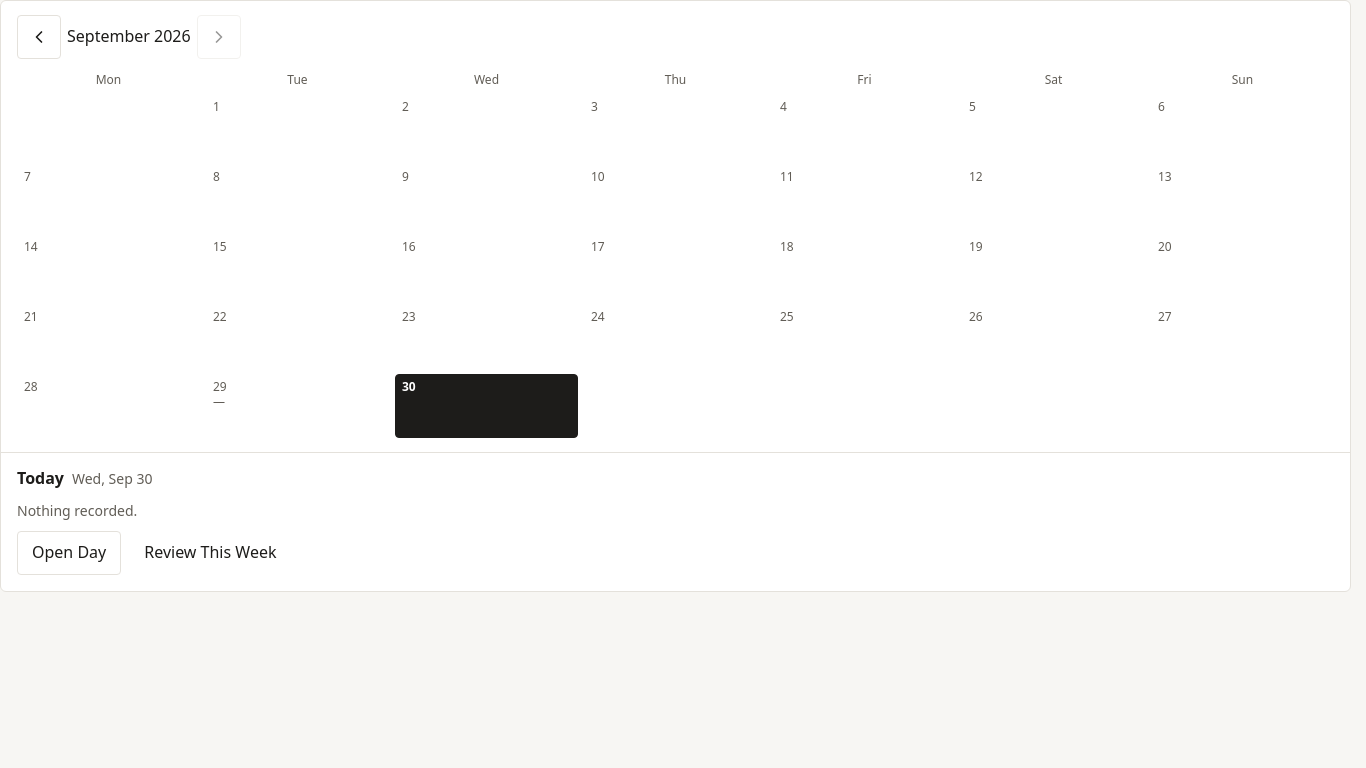
Test: Calendar › shows Check punches for a day with punches out of order, in place of its hours
Check: the text with class "calendar-worked" reads "—", box [213,393,225,410]
Click the button "29 —" at (298, 406), box [206,374,389,438]
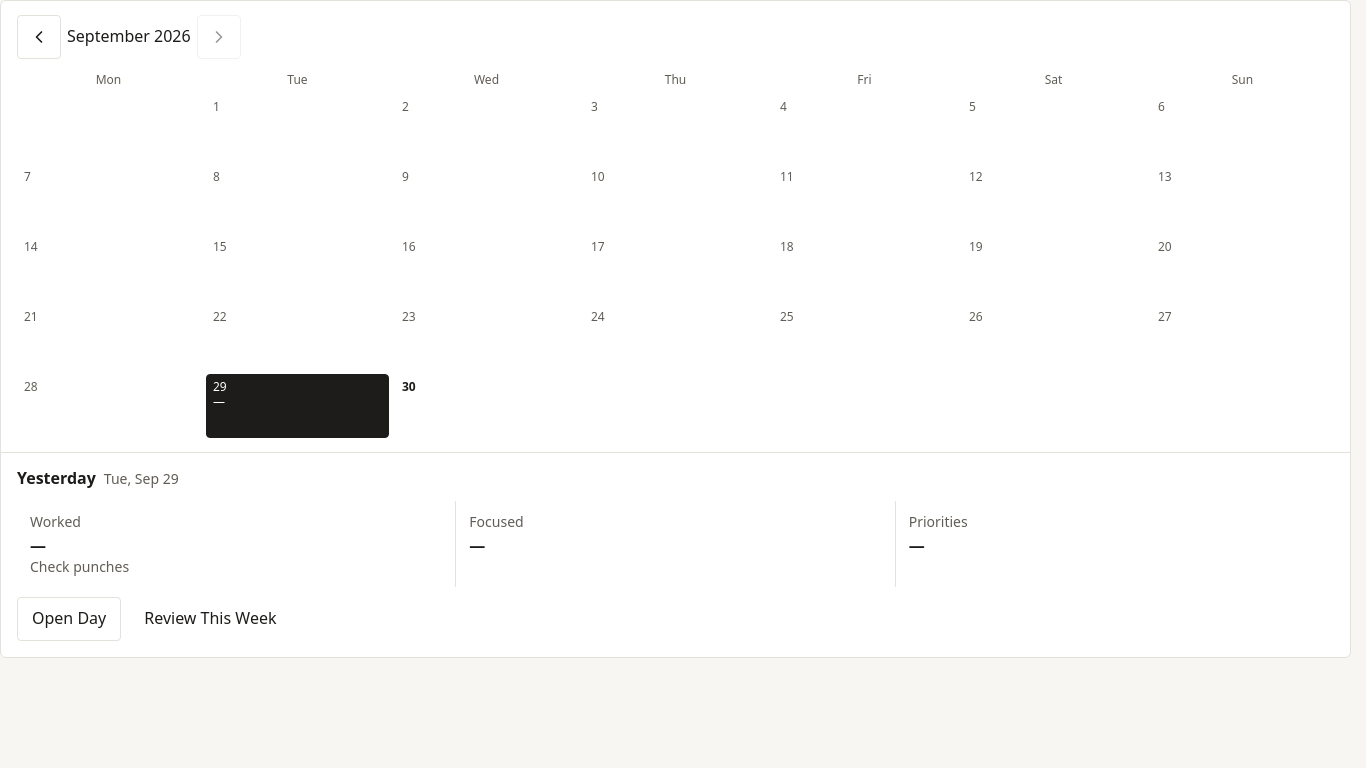
Check: the text "Check punches" is shown, box [30,557,129,576]
